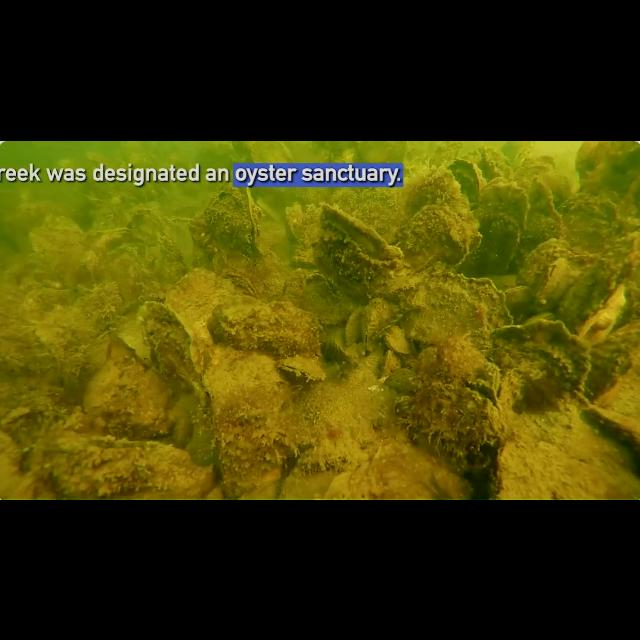Oyster-Closed: (45, 434, 211, 500), (489, 320, 593, 410), (396, 270, 514, 348), (404, 377, 506, 463), (313, 203, 405, 293), (218, 405, 282, 499), (142, 301, 202, 385), (204, 180, 264, 260), (403, 202, 479, 264), (96, 246, 166, 308), (573, 389, 640, 451), (210, 287, 274, 343), (29, 213, 90, 270), (577, 284, 627, 350), (574, 140, 640, 190), (77, 359, 137, 413), (475, 212, 527, 272), (406, 166, 466, 218), (525, 172, 569, 240), (588, 229, 640, 283), (482, 170, 534, 222), (451, 155, 492, 205), (559, 262, 593, 320), (77, 323, 115, 372), (125, 204, 173, 242), (274, 354, 326, 384), (476, 140, 514, 178), (338, 304, 368, 344), (490, 140, 536, 166), (516, 154, 558, 182), (59, 355, 90, 391), (156, 245, 190, 275), (503, 283, 537, 309), (223, 272, 254, 296)
Oyster-Open: (357, 296, 397, 354), (536, 252, 574, 312), (2, 404, 34, 430), (95, 224, 134, 242)
